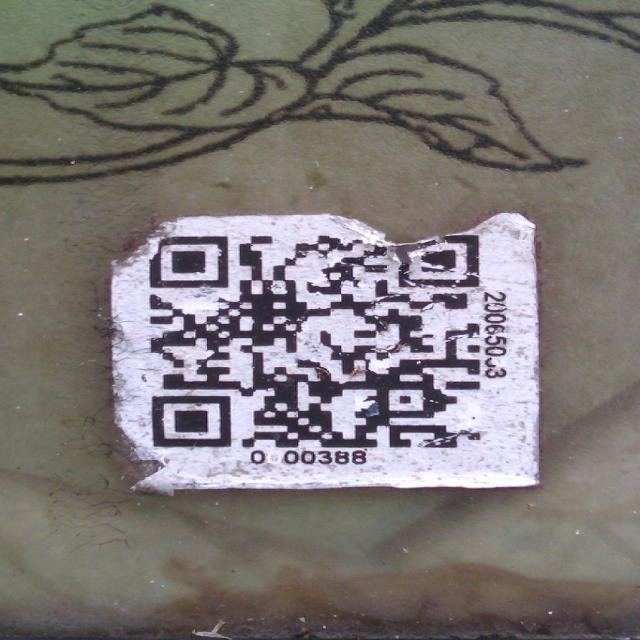qr-code: (149, 236, 479, 448)
